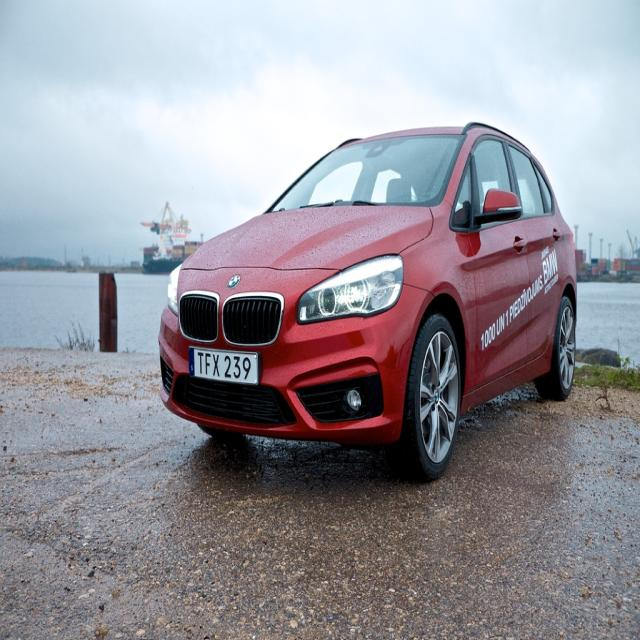car: (143, 124, 583, 473)
